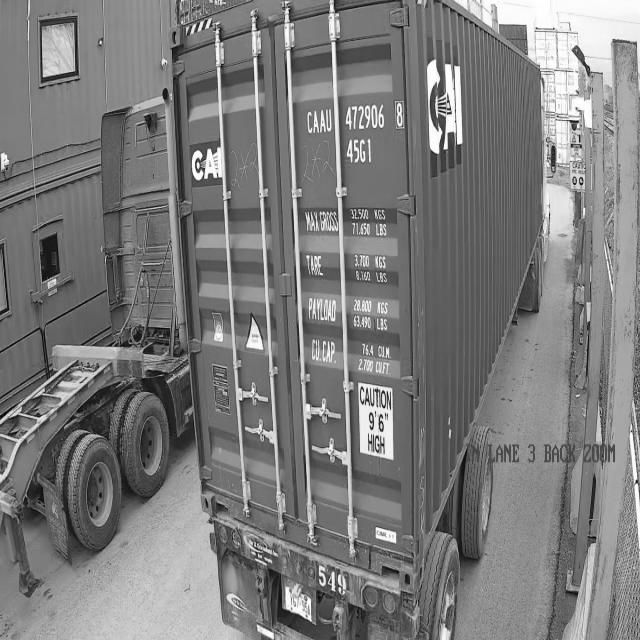container_company_logo: (182, 138, 230, 189)
container_number: (307, 102, 406, 167)
license_plate: (283, 581, 317, 622)
other_container_info: (304, 204, 399, 374)
truck_trailer: (0, 98, 192, 596)
truck_with_container: (168, 0, 548, 639)
